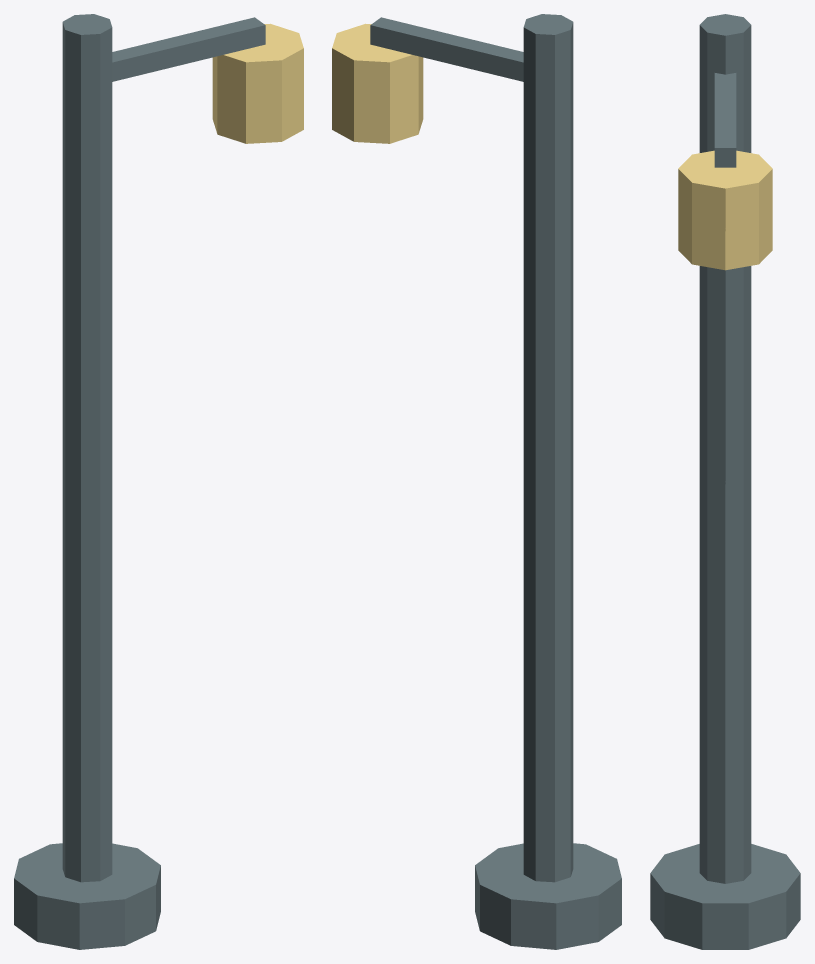
File: sm_env_prop_street_lamp_refined.glb
The picture shows the model from 3 angles, left to right: view 1: azimuth 30°, elevation 25°; view 2: azimuth 150°, elevation 25°; view 3: azimuth 270°, elevation 25°; orthographic projection.
Parts seen in each view (by area): view 1: Pole, Base, Lantern, Arm; view 2: Pole, Base, Lantern, Arm; view 3: Pole, Base, Lantern, Arm.
Part boxes in pixels (bbox=[...]): Pole: bbox=[62, 14, 112, 882]; Base: bbox=[14, 843, 160, 949]; Lantern: bbox=[212, 23, 303, 143]; Arm: bbox=[112, 17, 265, 81]; Pole: bbox=[523, 14, 573, 882]; Base: bbox=[475, 843, 621, 949]; Lantern: bbox=[332, 23, 423, 143]; Arm: bbox=[370, 17, 523, 81]; Pole: bbox=[699, 14, 751, 883]; Base: bbox=[650, 844, 800, 949]; Lantern: bbox=[678, 150, 772, 270]; Arm: bbox=[714, 73, 736, 167].
Bounding box in the file's own units: 1.47 × 4.6 × 0.7.
